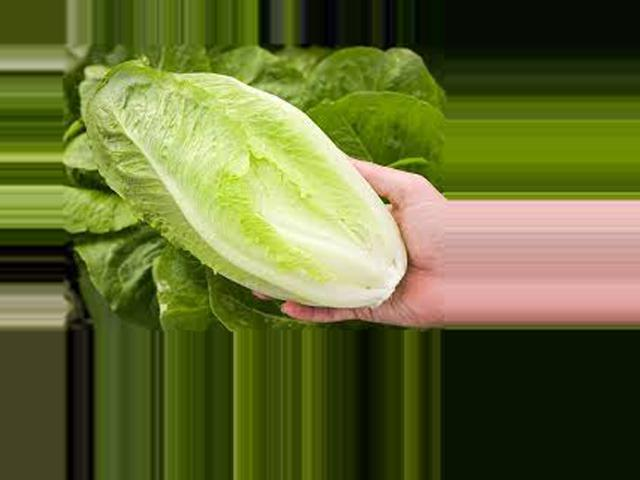lettuce: (77, 61, 410, 316)
